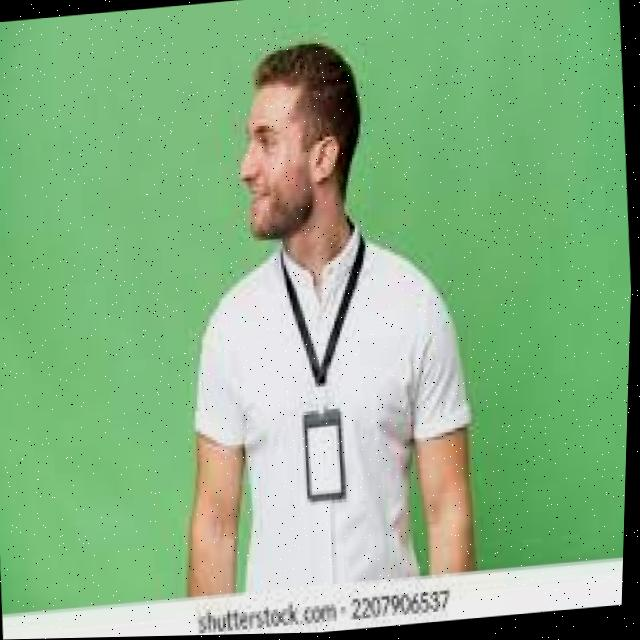id_card: (273, 251, 371, 519)
